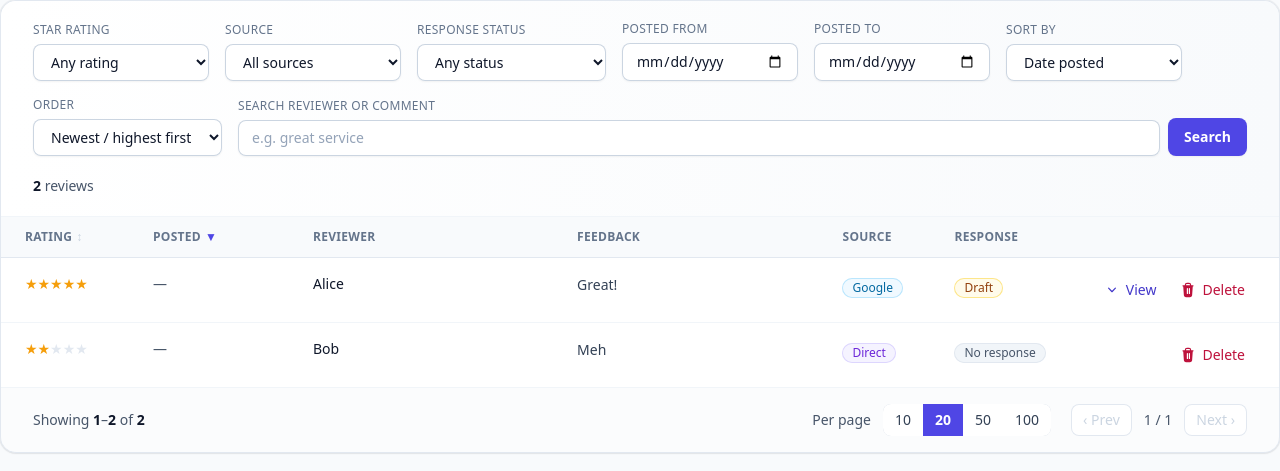
Test: Review Management — ReviewPanel › optimistic delete with 4-second Undo window › shows a success toast confirming the delete when the commit succeeds
Click the button "Delete" in the row of "Alice": coordinates (1213, 290) [1170, 274, 1255, 306]
Wait 4000 ms
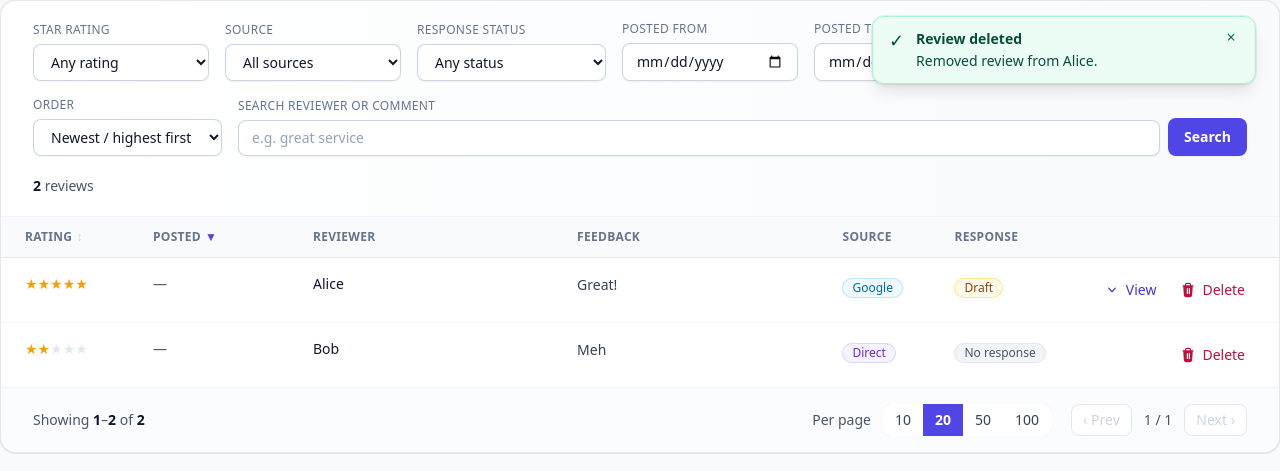
expect the element with test id "notification-toast-region" shows "Review deleted": met, box [916, 29, 1022, 48]
expect the element with test id "notification-toast-region" shows "Alice": met, box [916, 51, 1097, 70]
